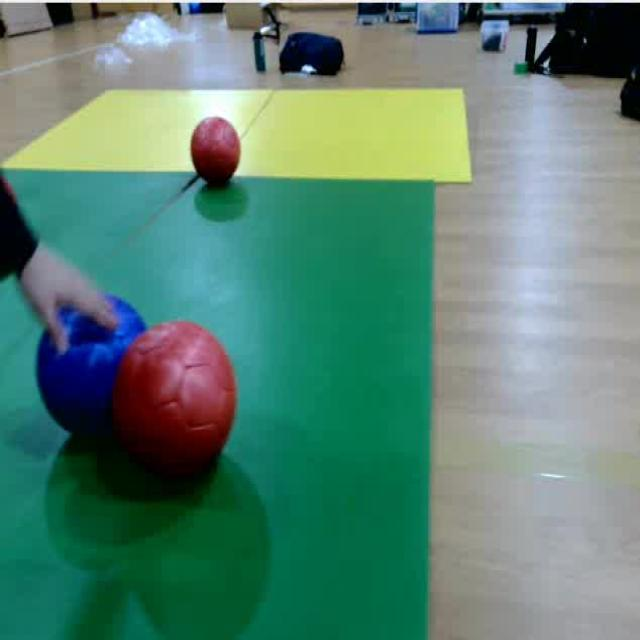blue_ball: (33, 292, 119, 443)
red_ball: (133, 324, 239, 482), (187, 114, 239, 192)
